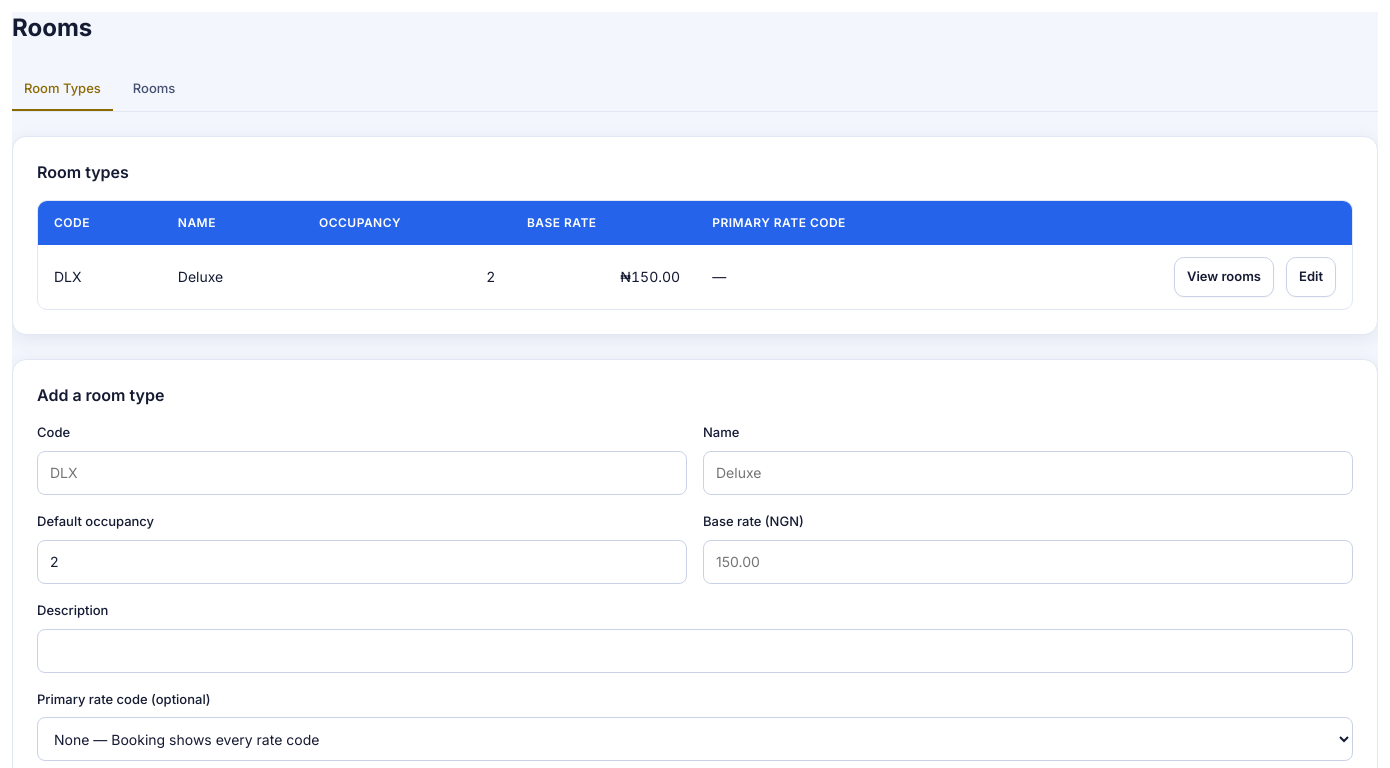
Test case: <RoomsScreen> › clicking "View rooms" on a room type switches to Rooms, filtered to that type
Expected: the text "DLX" is shown, [38,244,162,309]
Click the button "View rooms" at [1224, 277], box [1174,257,1274,297]
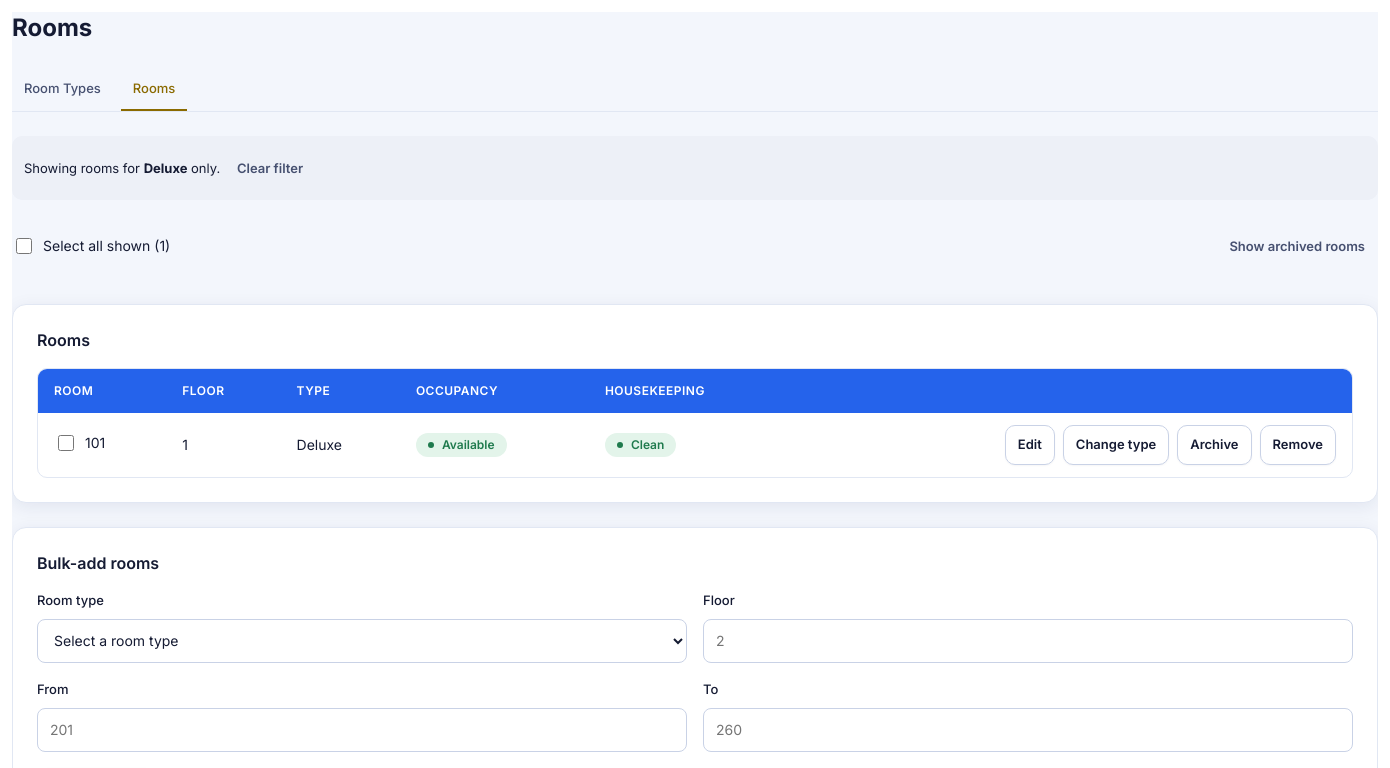
Expected: the text "101" is shown, [54,432,105,454]
Expected: the text "Showing rooms for Deluxe only. Clear filter" is shown, [12,136,1378,200]
